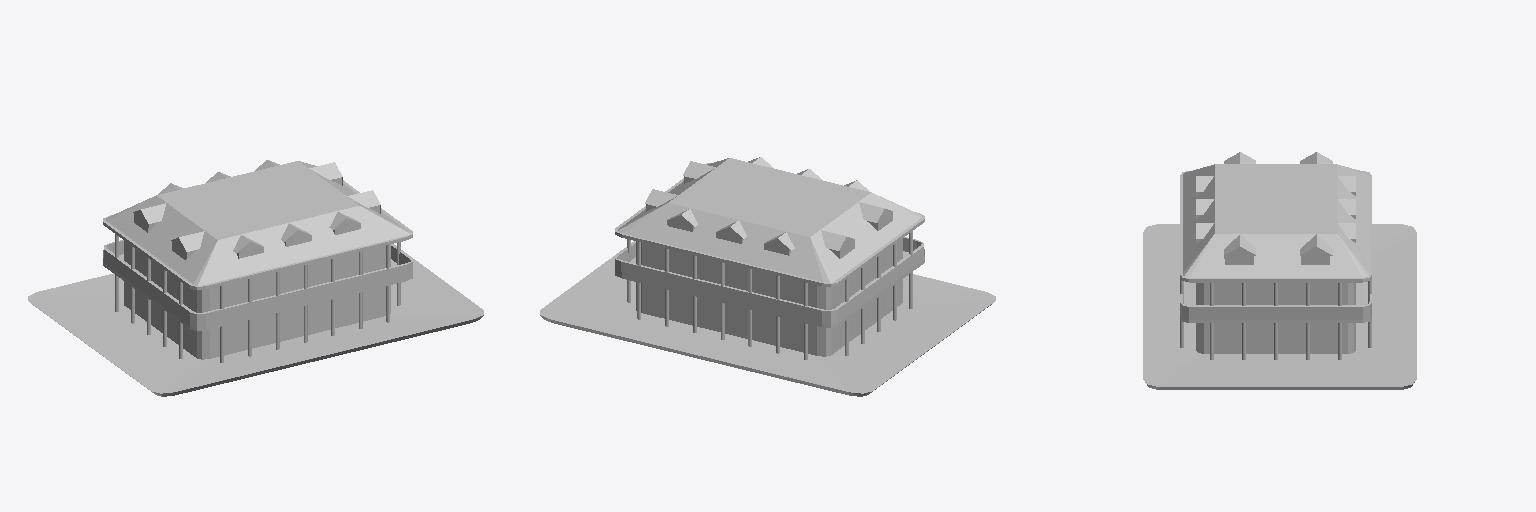
File: building-NO.obj
The picture shows the model from 3 angles: view 1: azimuth 30°, elevation 25°; view 2: azimuth 150°, elevation 25°; view 3: azimuth 270°, elevation 25°; orthographic projection.
Visible parts, largest first — view 1: Cube, Cube.002, Cube.001, Cube.005_Cube.006; view 2: Cube, Cube.002, Cube.001, Cube.005_Cube.006; view 3: Cube, Cube.002, Cube.001, Cube.005_Cube.006.
Part boxes in pixels (bbox=[...]): Cube: bbox=[28, 241, 483, 396]; Cube.002: bbox=[103, 161, 412, 289]; Cube.001: bbox=[103, 240, 412, 330]; Cube.005_Cube.006: bbox=[133, 160, 380, 259]; Cube: bbox=[540, 238, 995, 396]; Cube.002: bbox=[615, 158, 924, 286]; Cube.001: bbox=[615, 237, 924, 327]; Cube.005_Cube.006: bbox=[645, 157, 892, 258]; Cube: bbox=[1143, 224, 1416, 389]; Cube.002: bbox=[1180, 164, 1371, 282]; Cube.001: bbox=[1180, 281, 1371, 322]; Cube.005_Cube.006: bbox=[1196, 152, 1355, 264].
Bounding box in the file's own units: 23.91 × 7.83 × 17.08.